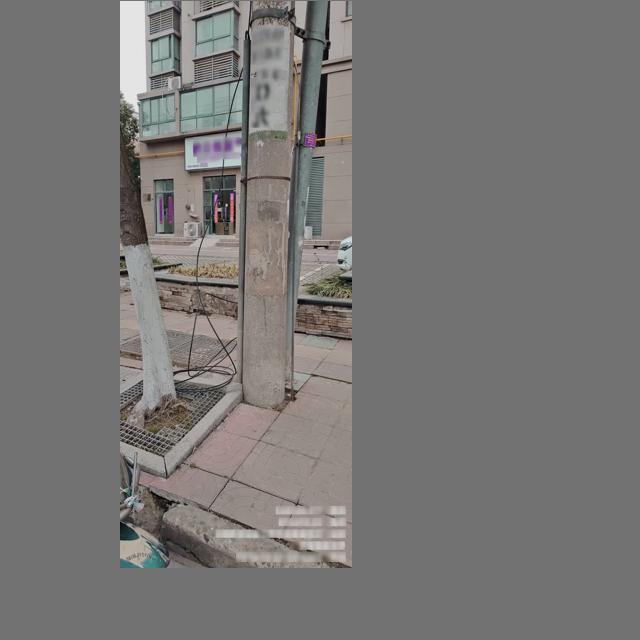good: (120, 328, 237, 368)
